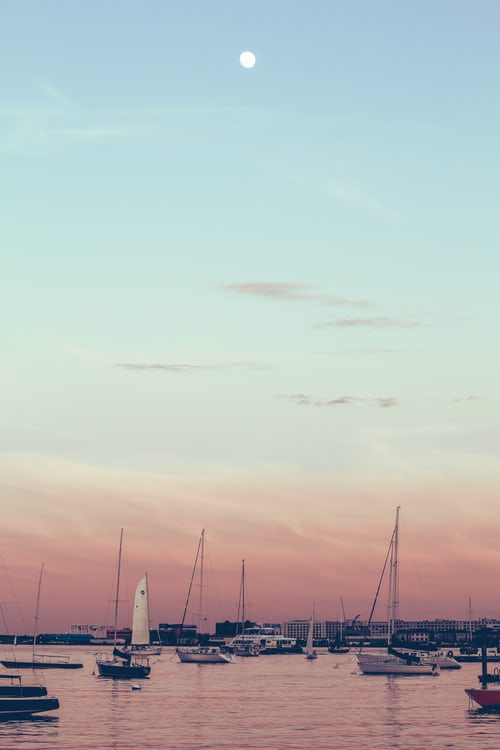yacht: (355, 502, 445, 680), (179, 526, 232, 668)
